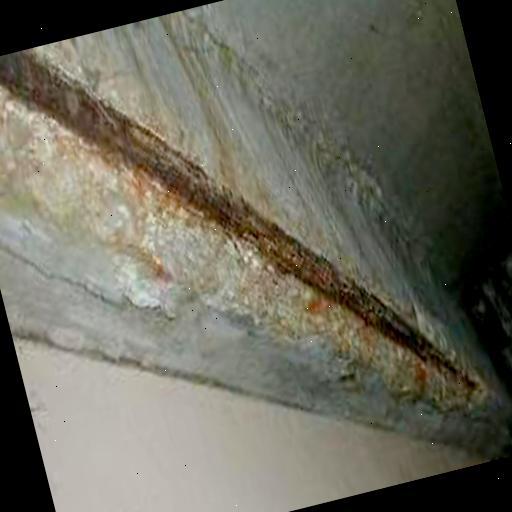spalling: (0, 45, 488, 409)
